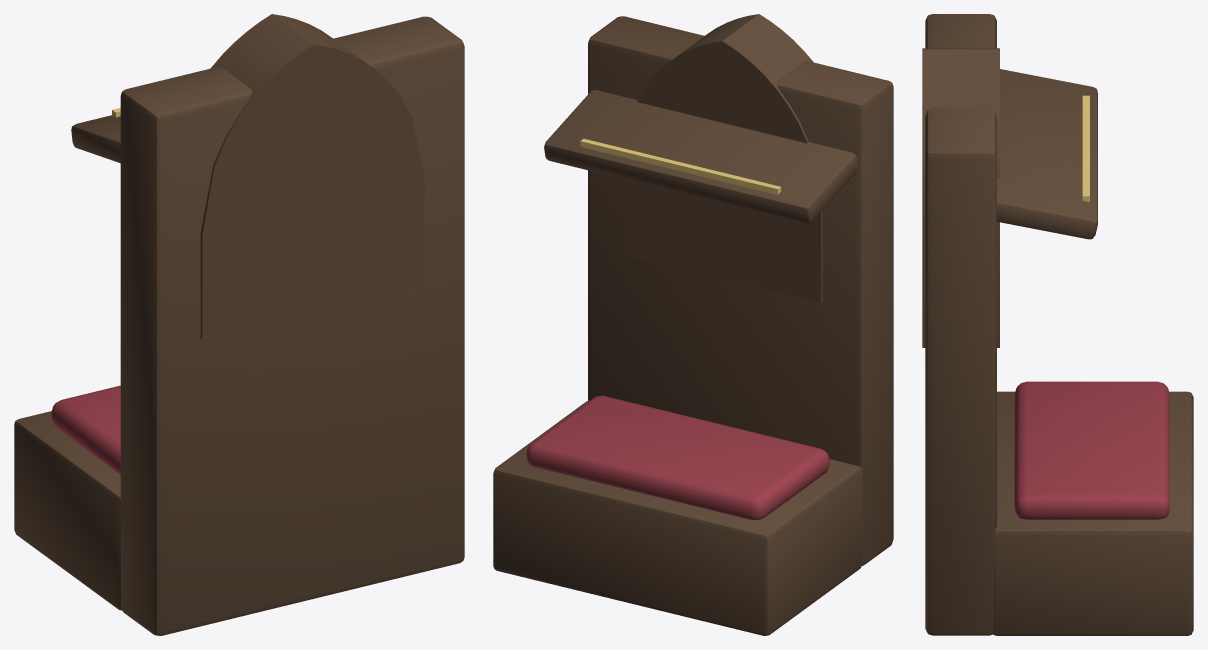
File: chi_inginocchiatoio.fbx
3 views of the same model, side by side, from view 1: azimuth 30°, elevation 25°; view 2: azimuth 150°, elevation 25°; view 3: azimuth 270°, elevation 25° (orthographic). The views are drawn at different scales.
Parts seen in each view (by area): view 1: chi_inginocchiatoio_legno, chi_inginocchiatoio_tessuto; view 2: chi_inginocchiatoio_legno, chi_inginocchiatoio_tessuto, chi_inginocchiatoio_oro; view 3: chi_inginocchiatoio_legno, chi_inginocchiatoio_tessuto, chi_inginocchiatoio_oro.
Part boxes in pixels (box(x1,y1,x2,y2)): chi_inginocchiatoio_legno: box(14, 14, 464, 635); chi_inginocchiatoio_tessuto: box(51, 385, 120, 474); chi_inginocchiatoio_legno: box(493, 14, 893, 635); chi_inginocchiatoio_tessuto: box(526, 395, 829, 520); chi_inginocchiatoio_oro: box(580, 138, 781, 194); chi_inginocchiatoio_legno: box(922, 14, 1193, 635); chi_inginocchiatoio_tessuto: box(1014, 381, 1169, 519); chi_inginocchiatoio_oro: box(1082, 95, 1089, 202).
Bounding box in the file's own units: 0.56 × 0.96 × 0.455.
